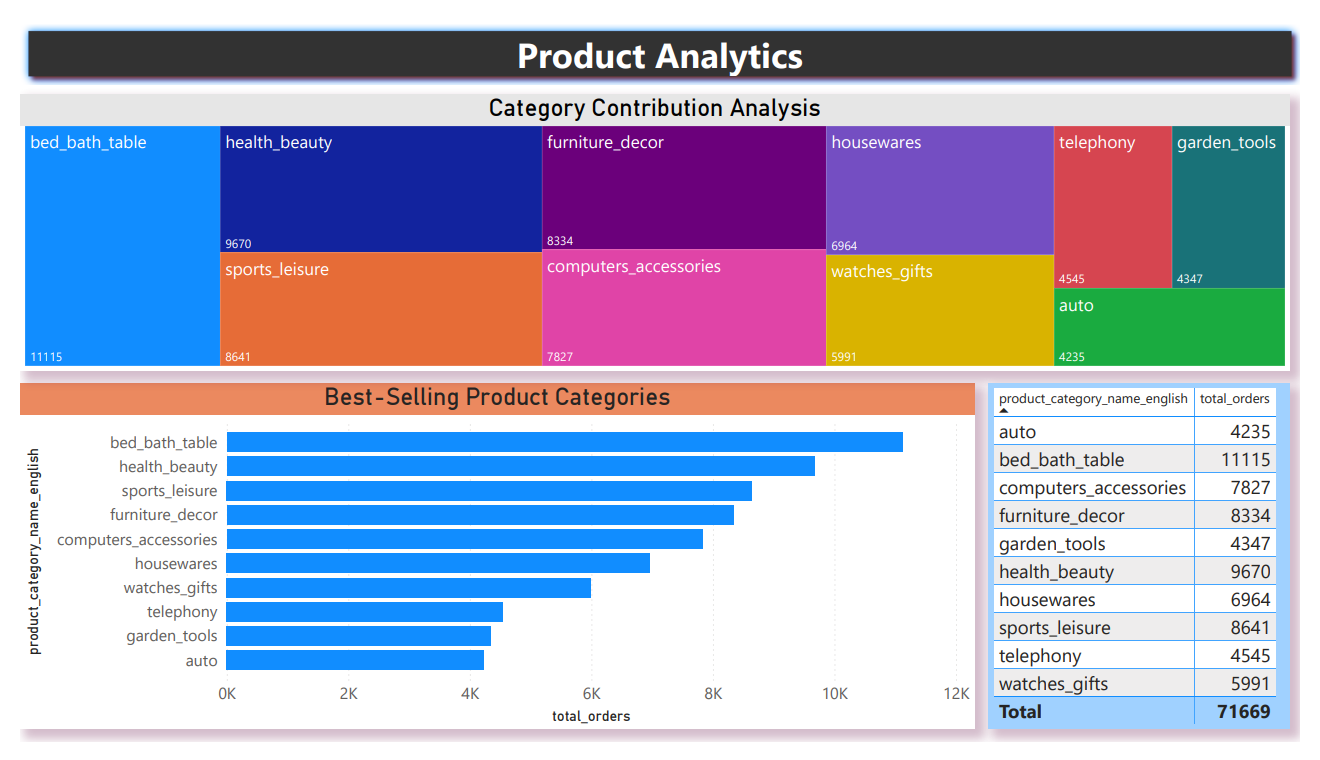

The dashboard page shown, as its layout file describes it:
{"tool":"powerbi","page":{"name":"Product Analytics","canvas":[1280,720],"ordinal":2},"visuals":[{"type":"barChart","title":"Best-Selling Product Categories","fields":{"Category":["top_product_categories.product_category_name_english"],"Y":["Sum(top_product_categories.total_orders)"]},"box":[0,360.5,954.7,346.7],"z":0},{"type":"treemap","title":"Category Contribution Analysis","fields":{"Values":["Sum(top_product_categories.total_orders)"],"Group":["top_product_categories.product_category_name_english"],"Details":["top_product_categories.total_orders"]},"box":[0,71.6,1270,277.6],"z":1000},{"type":"tableEx","fields":{"Values":["top_product_categories.product_category_name_english","Sum(top_product_categories.total_orders)"]},"box":[968.5,360.5,301.5,346.7],"z":2000},{"type":"shape","box":[0,0,1280,62.8],"z":3000}]}

Visuals, with their boxes in screenshot pixels (x1, y1, x2, y2), scaled from the page's 1280x720 canvas onto the 1320x760 screenshot:
"Best-Selling Product Categories" barChart: l=0, t=381, r=985, b=746
"Category Contribution Analysis" treemap: l=0, t=76, r=1310, b=369
tableEx - top_product_categories.product_category_name_english x Sum(top_product_categories.total_orders): l=999, t=381, r=1310, b=746
shape: l=0, t=0, r=1319, b=66
